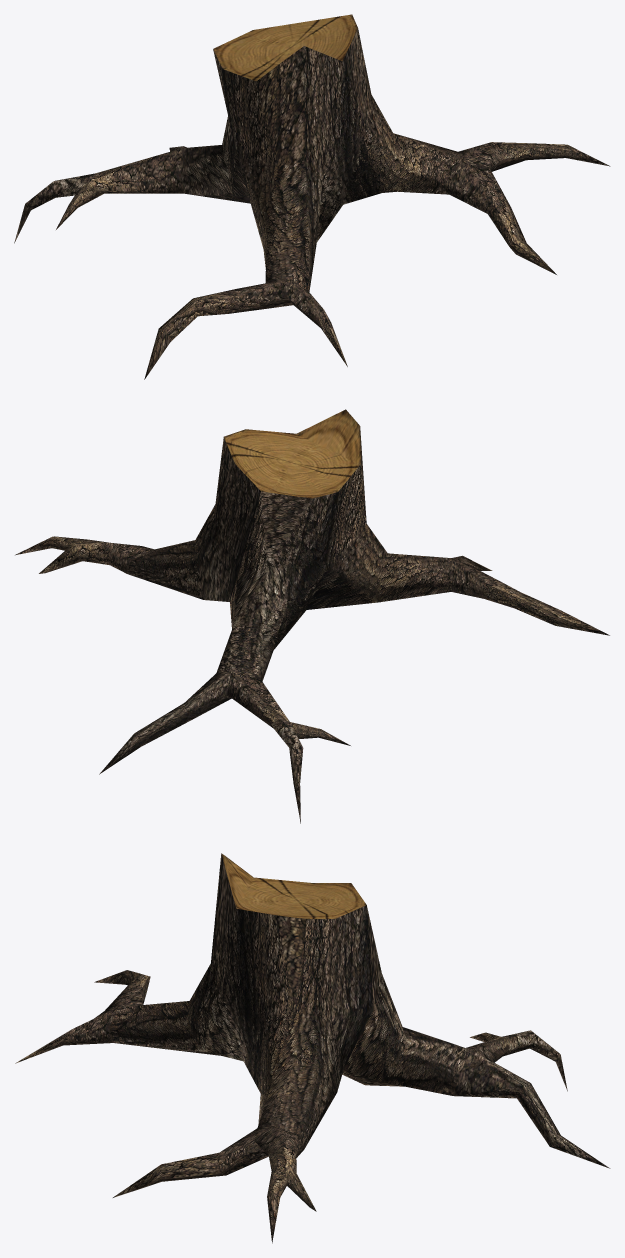
The model's file is fdec903.glb.
3 renders of one model, top to bottom at view 1: azimuth 30°, elevation 25°; view 2: azimuth 150°, elevation 25°; view 3: azimuth 270°, elevation 25°, orthographic. The views are drawn at different scales.
Visible parts, largest first — view 1: fdec903; view 2: fdec903; view 3: fdec903.
Part boxes in pixels (x1,y1,x2,y2): fdec903: [14, 14, 610, 379]; fdec903: [15, 409, 609, 823]; fdec903: [15, 853, 610, 1243].
Size of the model in its own units: 7.97 by 4.02 by 7.26.
Materials: 2 (2 with a texture image).
